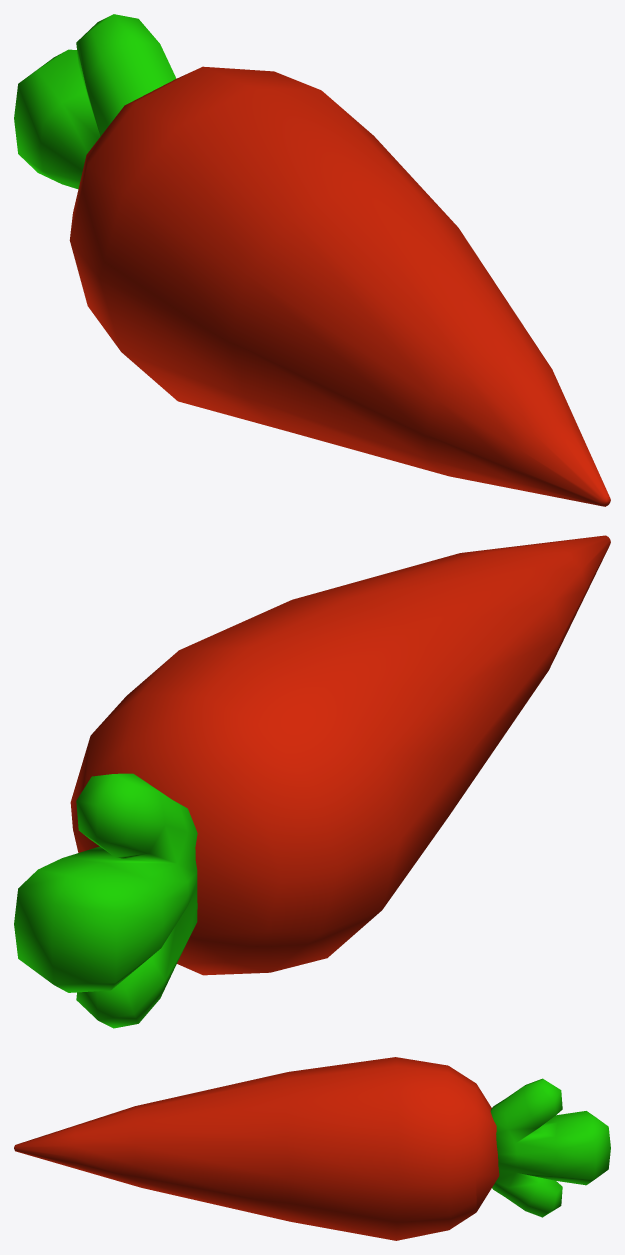
3 views of the same model, one above another, from view 1: azimuth 30°, elevation 25°; view 2: azimuth 150°, elevation 25°; view 3: azimuth 270°, elevation 25° (orthographic). The views are drawn at different scales.
Visible parts, largest first — view 1: LP (×2); view 2: LP (×2); view 3: LP (×2).
Part boxes in pixels (left/top/right/bottom): LP (×2): left=14, top=14, right=610, bottom=506; LP (×2): left=14, top=535, right=610, bottom=1028; LP (×2): left=14, top=1057, right=610, bottom=1240.
Size of the model in its own units: 327 by 333 by 1066.
